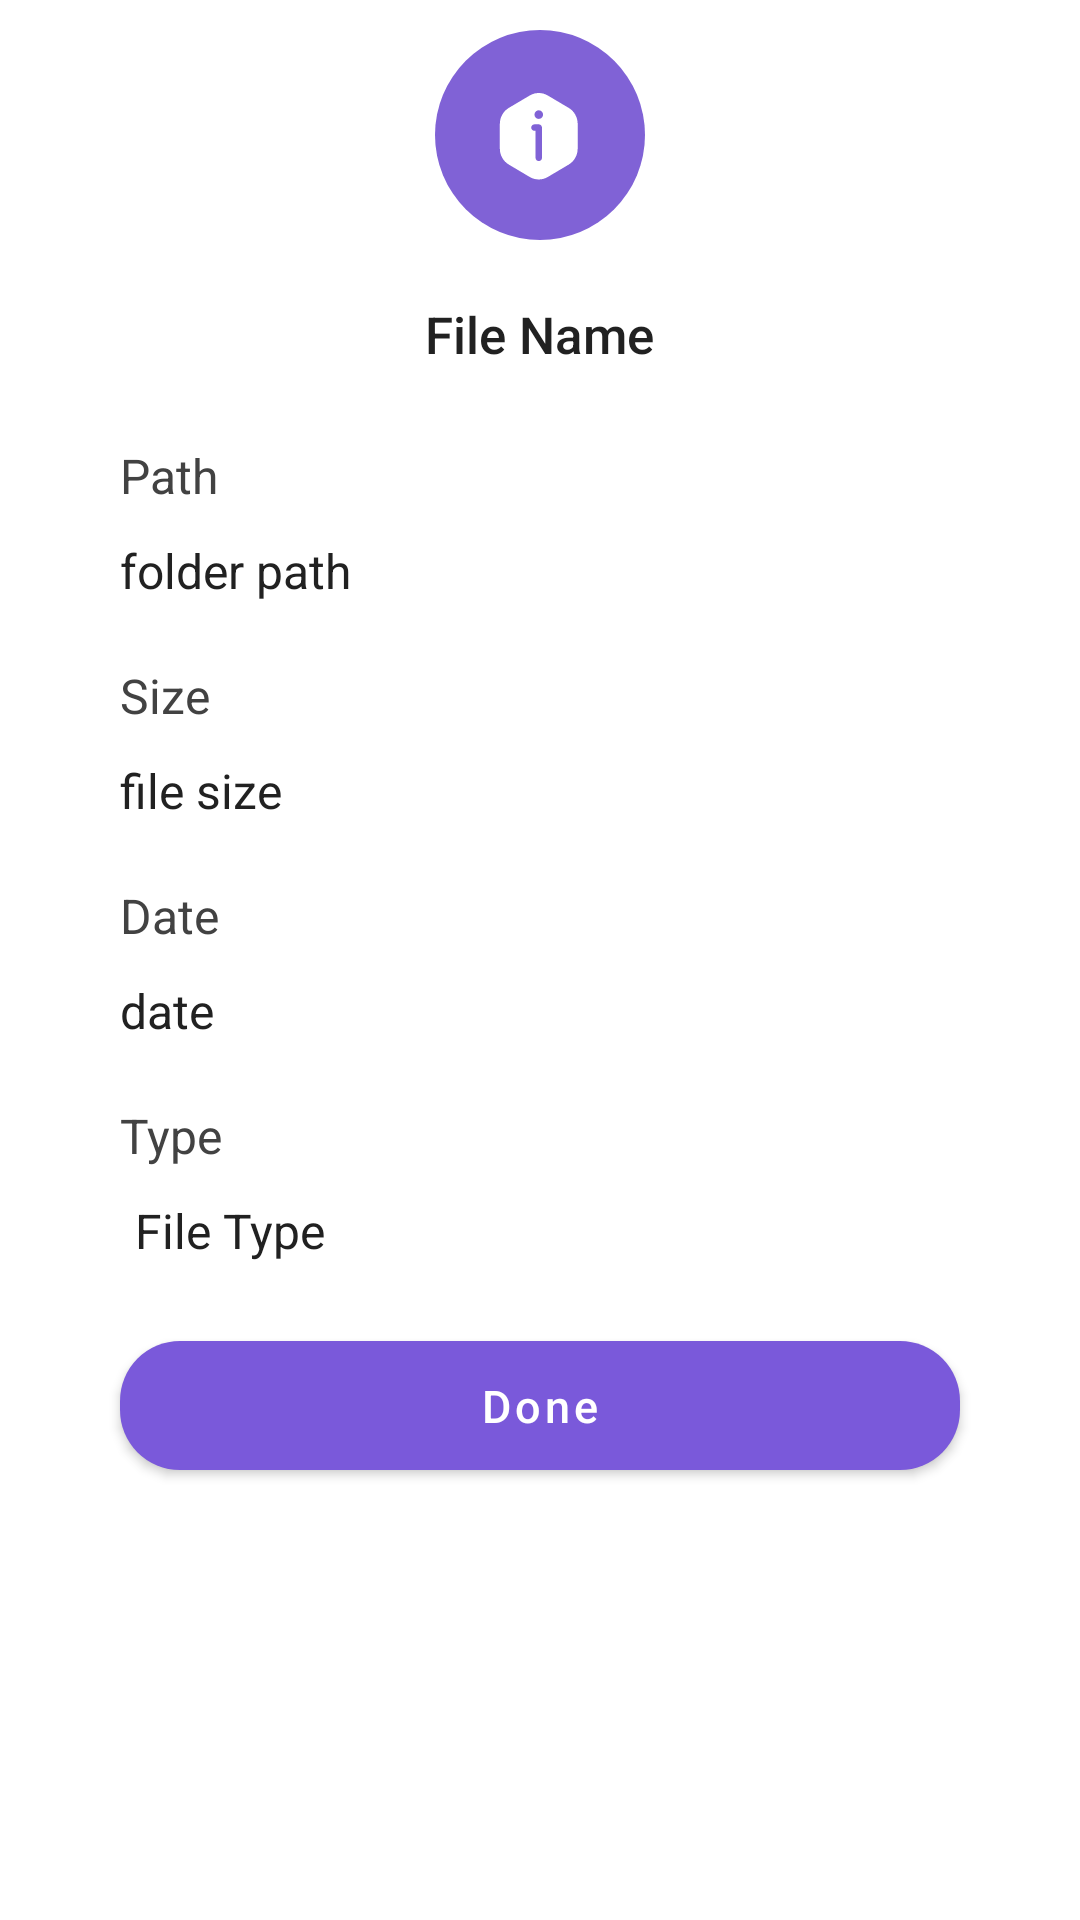

Named icons in this screenshot (1080×1920) and their centers, (x=x, y=y):
info dialog: (x=540, y=135)
